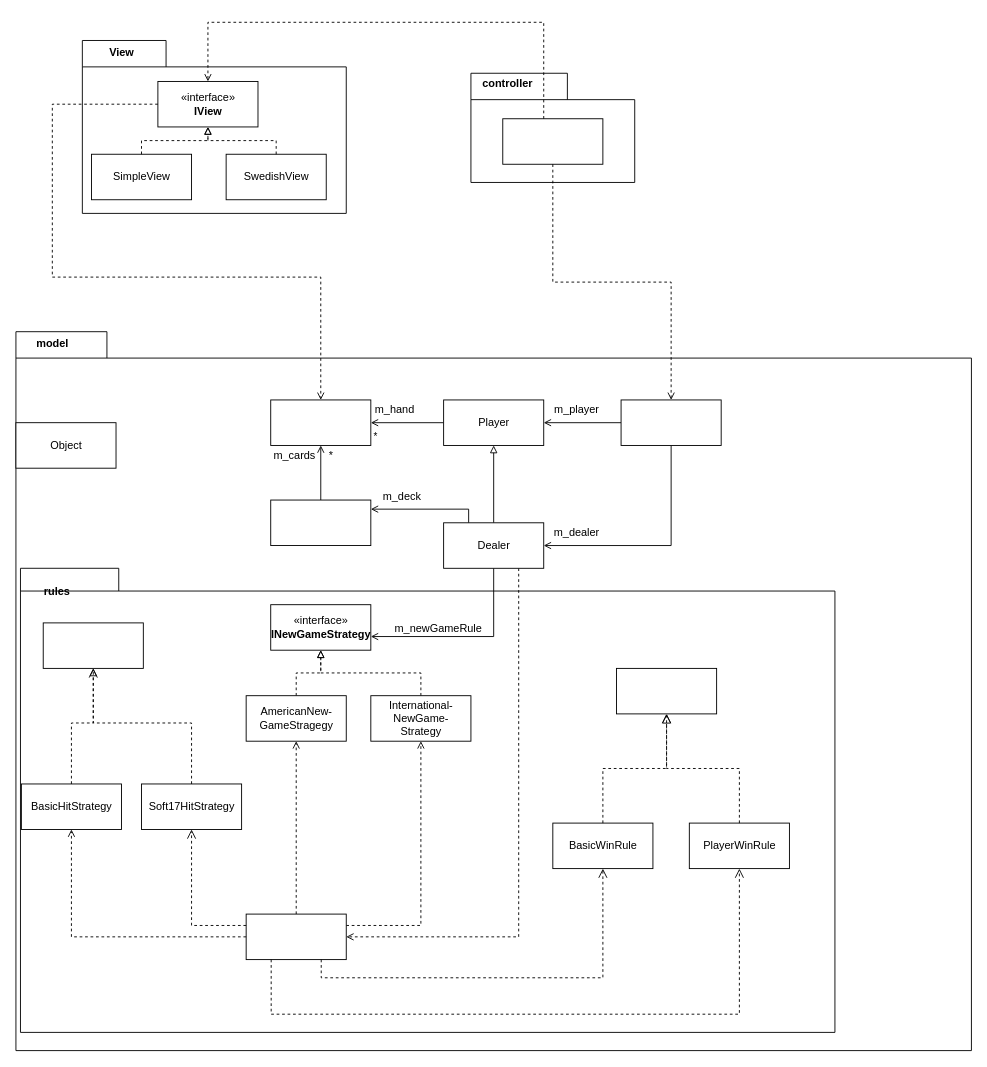
Some shapes in this 987 by 1067 pixel diagram are drawn without their labels. Each missing label, with the box of its shape:
Card: (270, 399, 371, 445)
Deck: (270, 499, 371, 546)
Game: (620, 399, 721, 445)
PlayGame: (502, 118, 603, 164)
RulesFactory: (245, 913, 346, 960)
«interface» IHitStrategy: (42, 622, 143, 668)
«interface» IWinRule: (616, 667, 717, 714)
